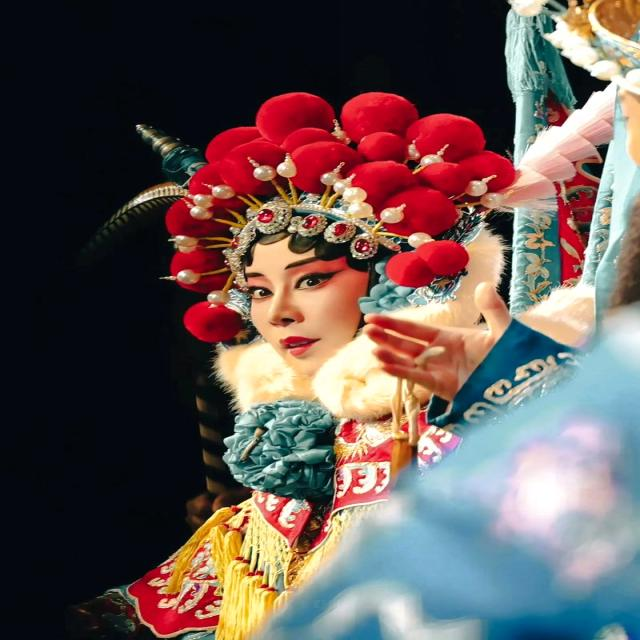Reeves-s Pheasant: (106, 182, 186, 228)
